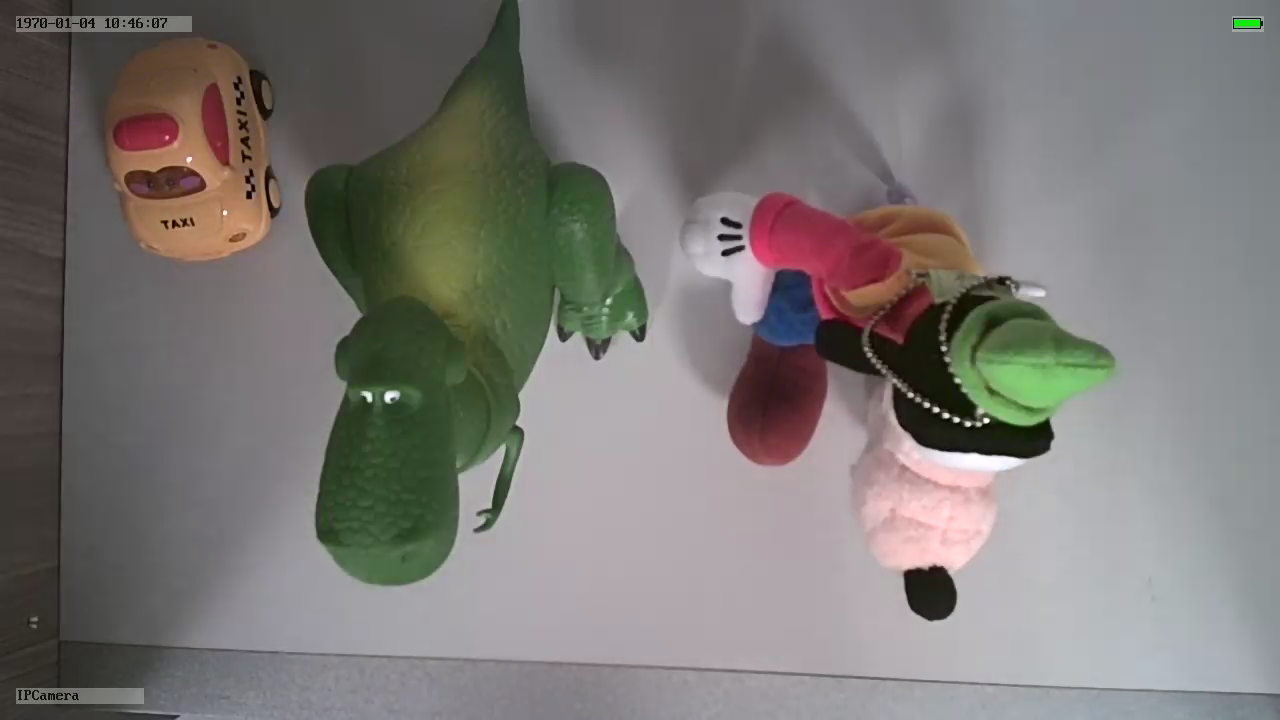goofy: (676, 176, 1122, 626)
